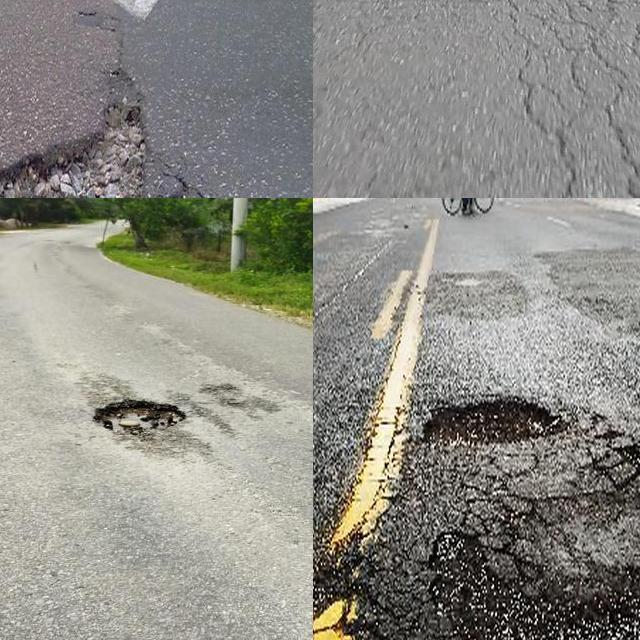Lubang: (445, 467, 640, 640), (422, 399, 570, 444), (104, 394, 194, 433)
Retak Buaya: (493, 0, 640, 198)
